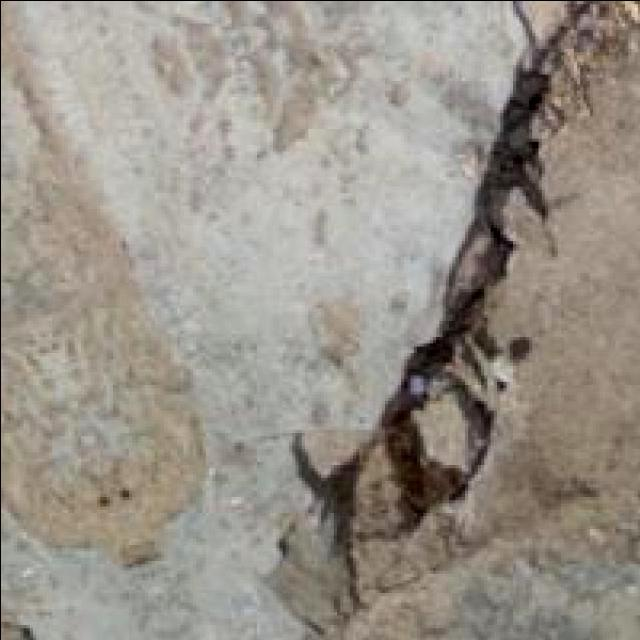SurfaceCrack: (248, 42, 600, 560)
